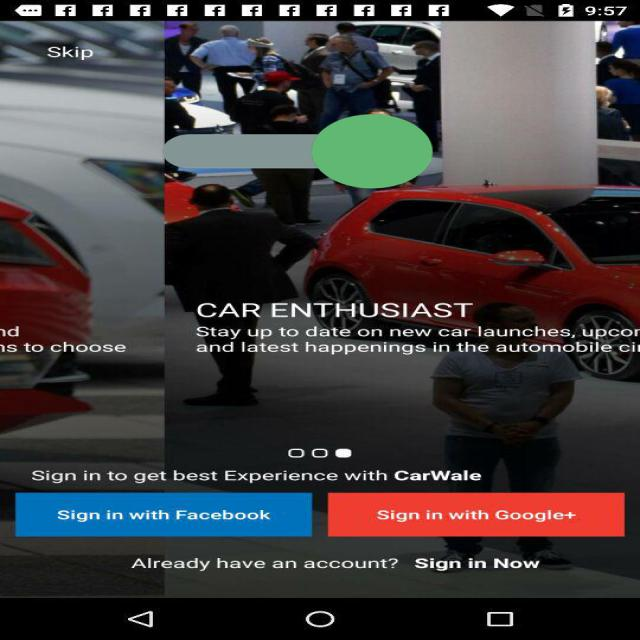social proof: (162, 69, 432, 234)
